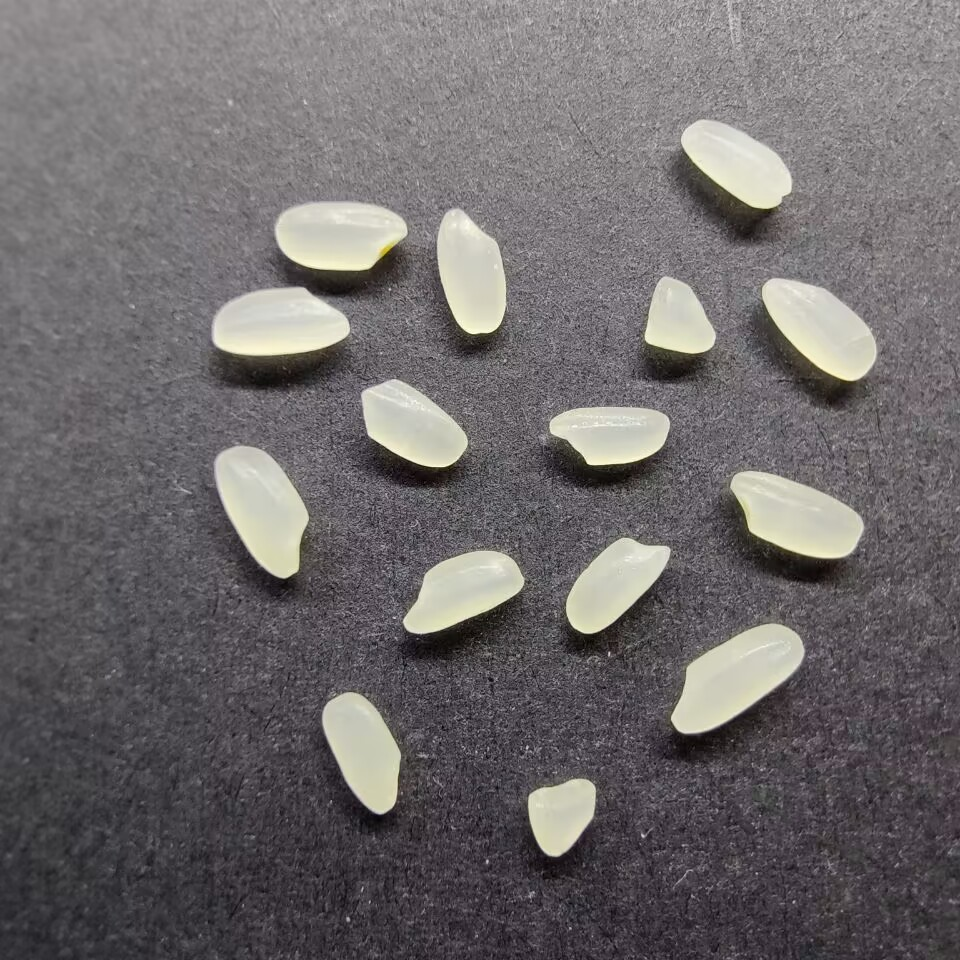broken: (525, 776, 597, 862), (643, 276, 719, 354)
rice: (669, 620, 805, 736), (212, 444, 309, 581), (759, 275, 878, 382), (729, 469, 865, 559), (400, 549, 526, 635), (564, 535, 670, 635), (681, 118, 794, 210), (357, 378, 471, 468), (208, 286, 351, 356), (322, 692, 402, 816), (273, 201, 409, 272), (434, 206, 507, 336), (547, 405, 671, 465)
